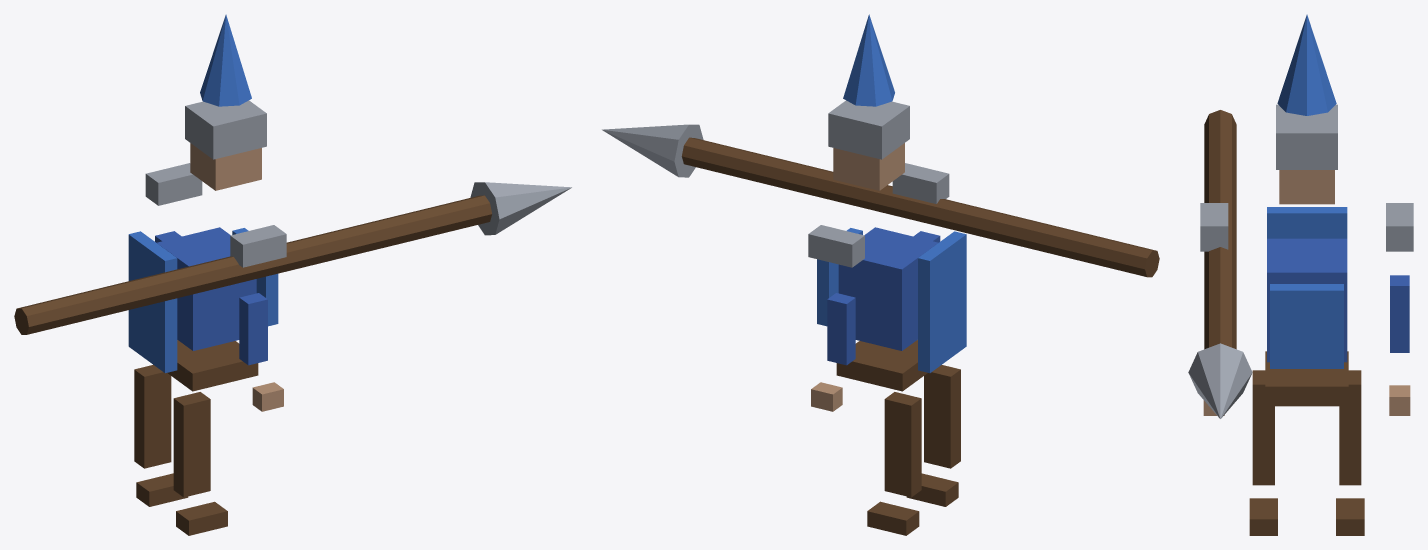
The model's file is vanguard_lancer.glb.
3 renders of one model, left to right at view 1: azimuth 30°, elevation 25°; view 2: azimuth 150°, elevation 25°; view 3: azimuth 270°, elevation 25°, orthographic. The views are drawn at different scales.
Visible parts, largest first — view 1: vanguard_lancer; view 2: vanguard_lancer; view 3: vanguard_lancer.
Boxes of the visible parts, x1=… form: vanguard_lancer: x1=14, y1=14, x2=571, y2=535; vanguard_lancer: x1=602, y1=14, x2=1159, y2=535; vanguard_lancer: x1=1188, y1=14, x2=1413, y2=535.
Size of the model in its own units: 56.5 by 47.75 by 18.23.
